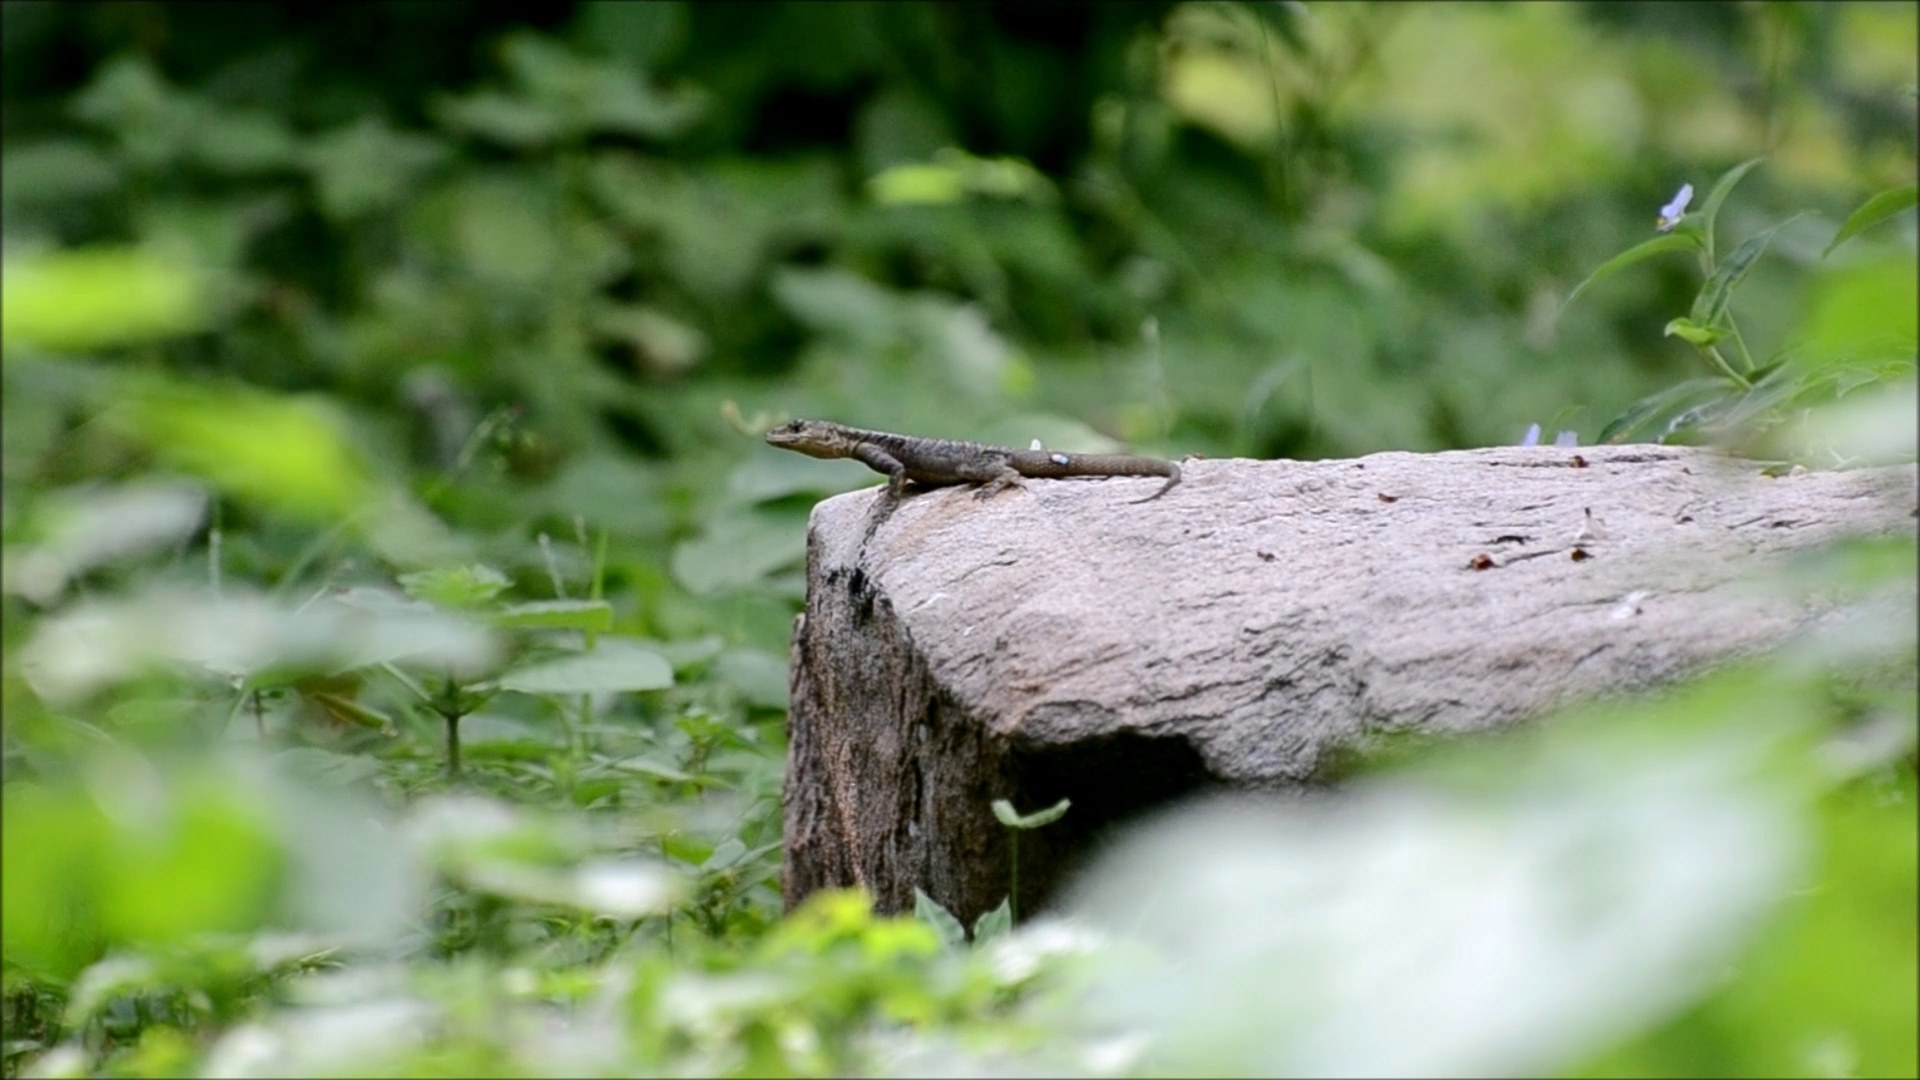body: (850, 424, 1182, 506)
head: (766, 417, 850, 462)
